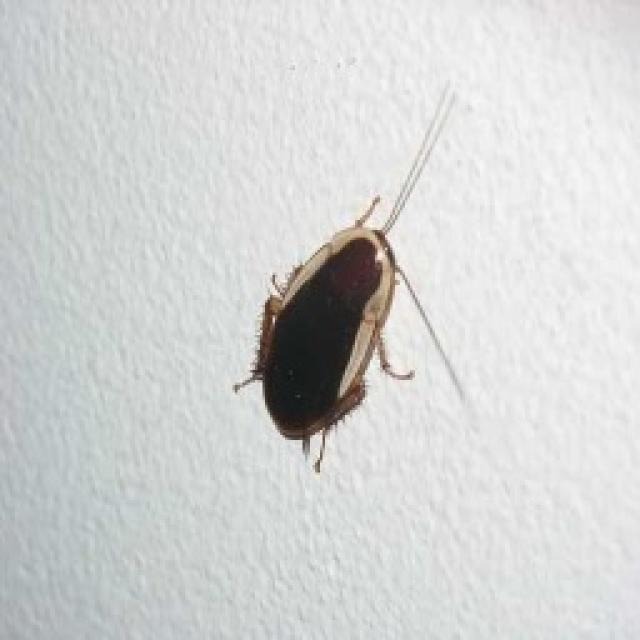cockroach: (252, 224, 401, 439)
